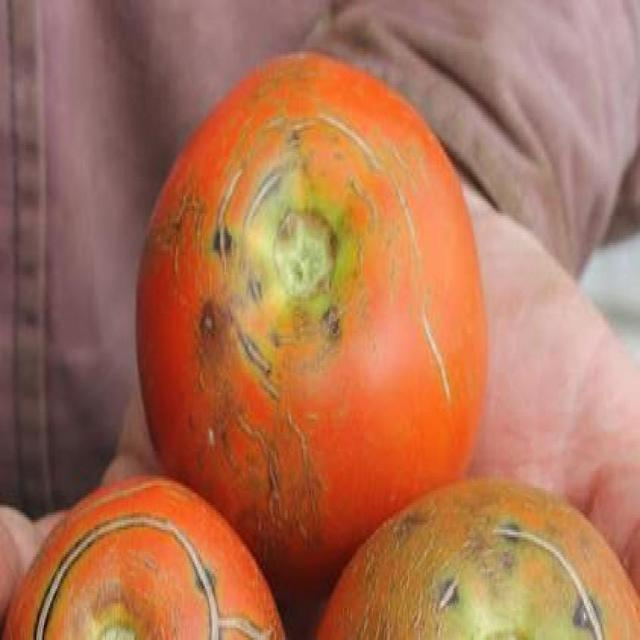Cracking Fruit: (93, 81, 352, 384)
